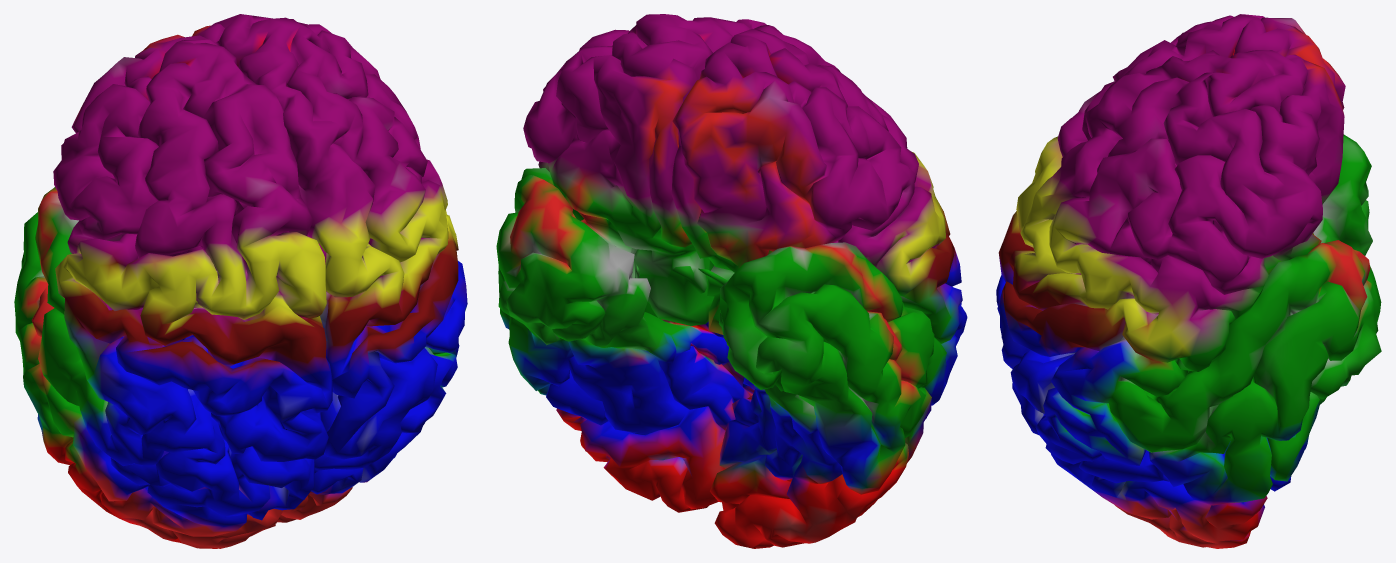
File: brain_20k_colored_properly.obj
3 renders of one model, left to right at view 1: azimuth 30°, elevation 25°; view 2: azimuth 150°, elevation 25°; view 3: azimuth 270°, elevation 25°, orthographic. The views are drawn at different scales.
Size of the model in its own units: 139 by 170 by 119.
